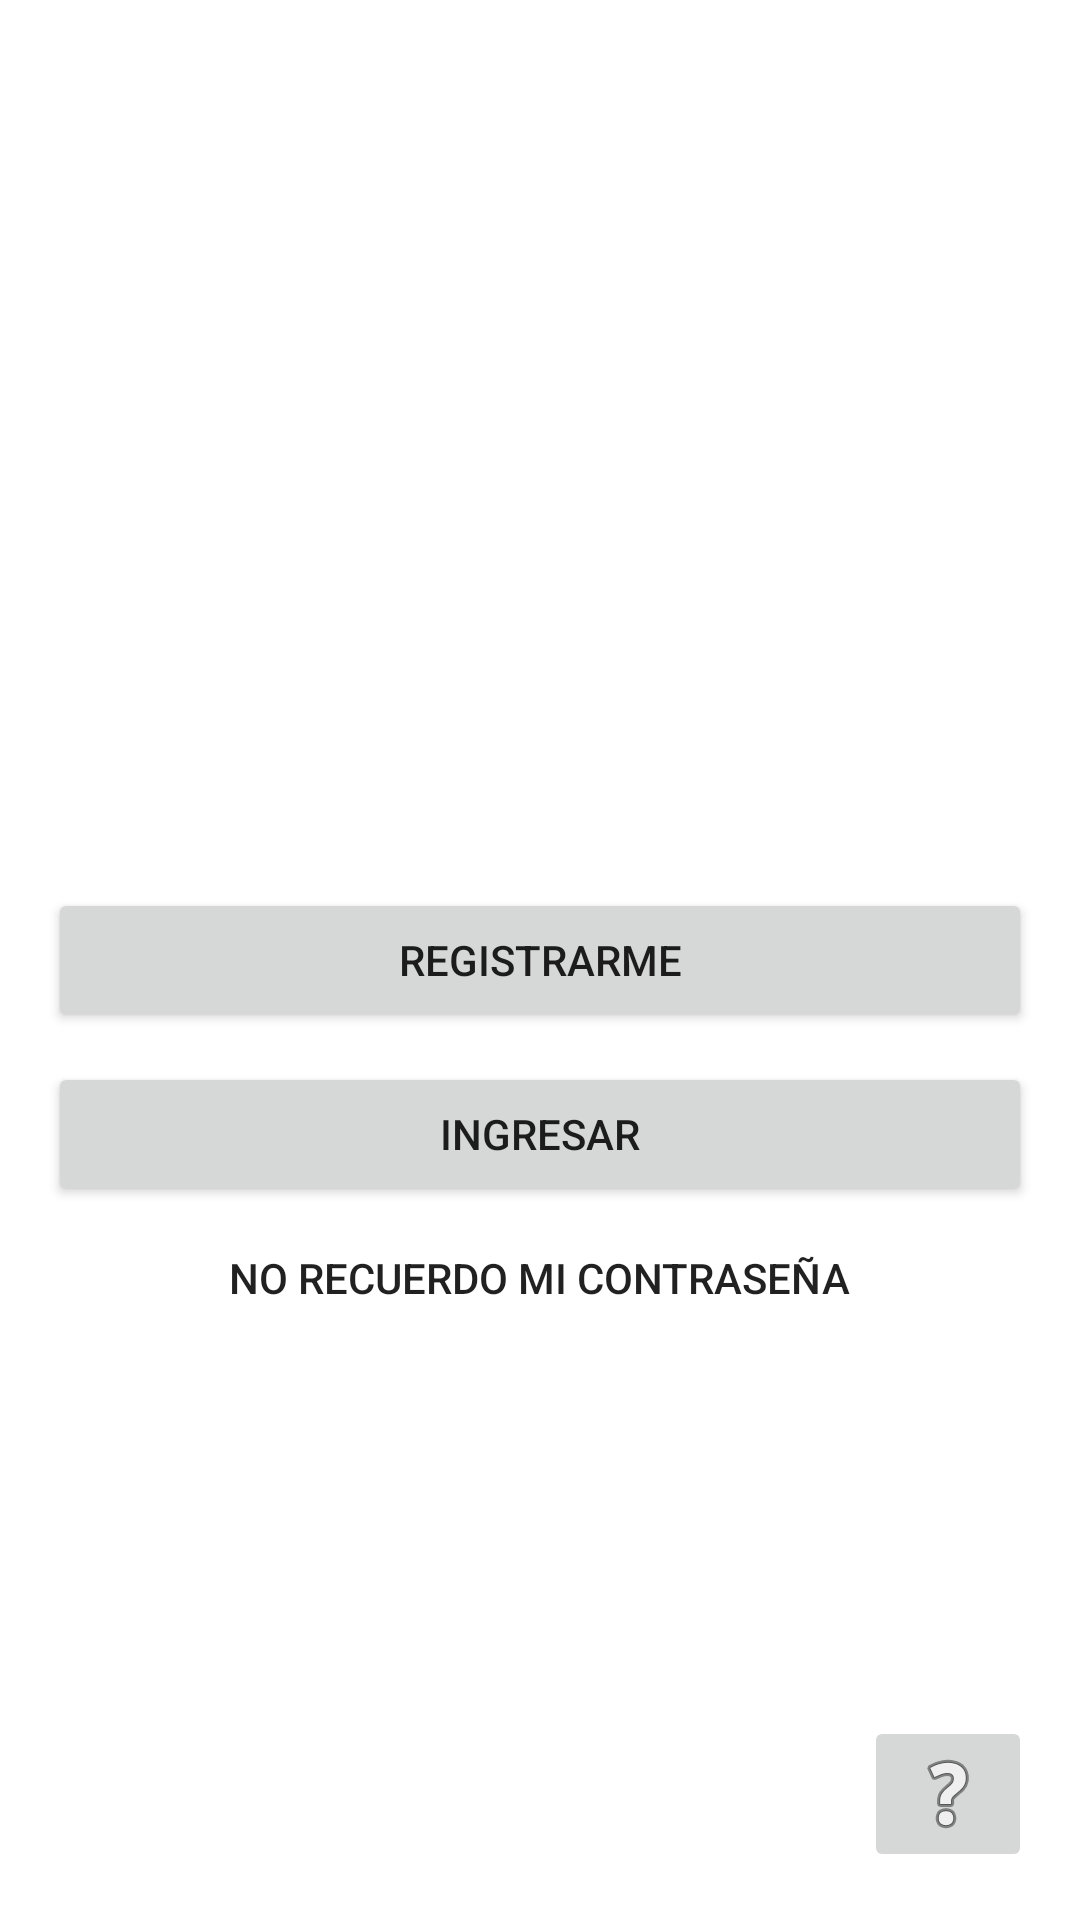

Icon bounding boxes for this 1080px×1920px phone screenshot, format (x1,y1,x2,y2):
help: (876,1734,1020,1854)
